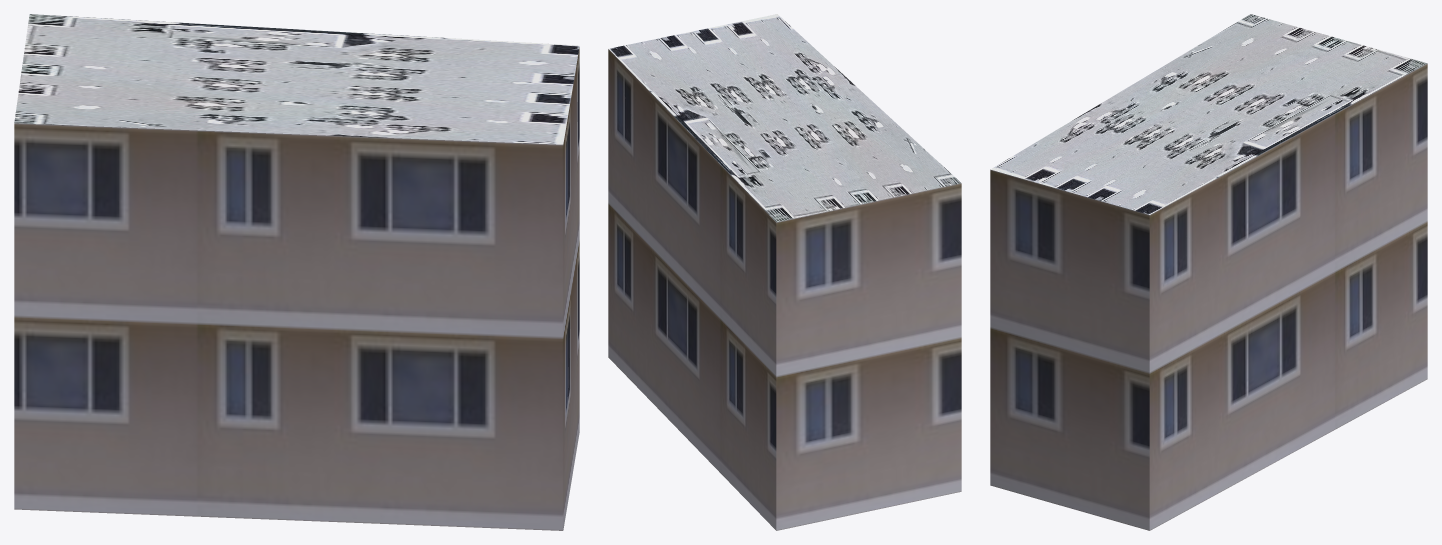
The model's file is ResTex__3675.fbx.
The picture shows the model from 3 angles, left to right: view 1: azimuth 30°, elevation 25°; view 2: azimuth 150°, elevation 25°; view 3: azimuth 270°, elevation 25°; orthographic projection. The views are drawn at different scales.
Parts seen in each view (by area): view 1: CityEngineMaterial_21_m, CityEngineMaterial_8_m; view 2: CityEngineMaterial_21_m, CityEngineMaterial_8_m; view 3: CityEngineMaterial_21_m, CityEngineMaterial_8_m.
Boxes of the visible parts, left/top/right/bottom form: CityEngineMaterial_21_m: left=14, top=47, right=579, bottom=530; CityEngineMaterial_8_m: left=14, top=14, right=579, bottom=144; CityEngineMaterial_21_m: left=608, top=49, right=961, bottom=530; CityEngineMaterial_8_m: left=608, top=14, right=961, bottom=222; CityEngineMaterial_21_m: left=990, top=63, right=1427, bottom=530; CityEngineMaterial_8_m: left=990, top=14, right=1427, bottom=214.
Size of the model in its own units: 8.19 by 6 by 7.53.
2 materials, 2 textured.
